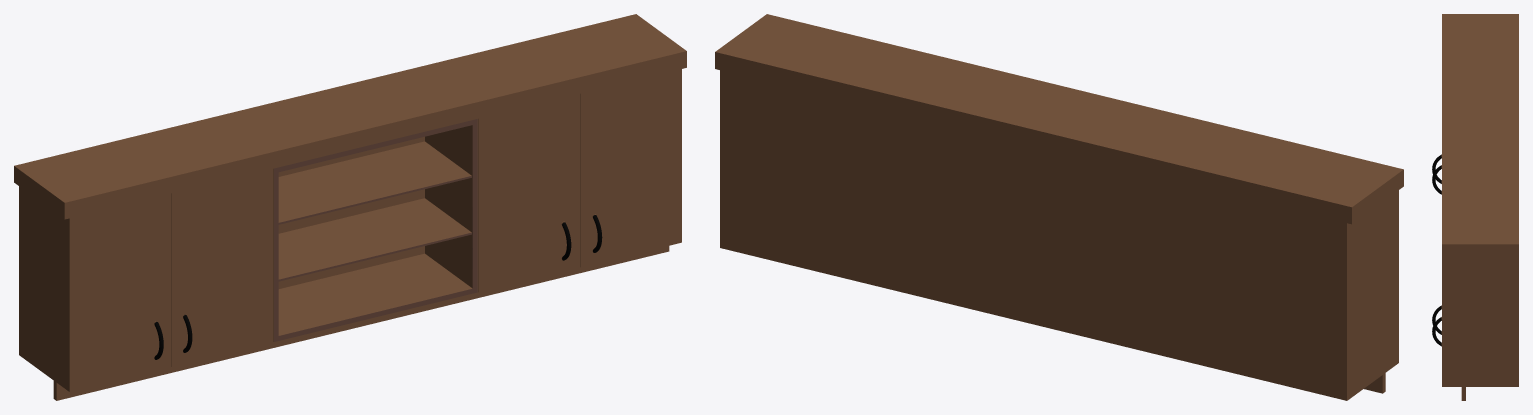
The model's file is dining_room_upper.glb.
The picture shows the model from 3 angles, left to right: view 1: azimuth 30°, elevation 25°; view 2: azimuth 150°, elevation 25°; view 3: azimuth 270°, elevation 25°; orthographic projection. The views are drawn at different scales.
Visible parts, largest first — view 1: dining_room_upper; view 2: dining_room_upper; view 3: dining_room_upper.
Part boxes in pixels (left/top/right/bottom): dining_room_upper: left=14, top=14, right=686, bottom=400; dining_room_upper: left=715, top=14, right=1403, bottom=400; dining_room_upper: left=1432, top=14, right=1518, bottom=400.
Bounding box in the file's own units: 97.5 × 31.25 × 15.5.
